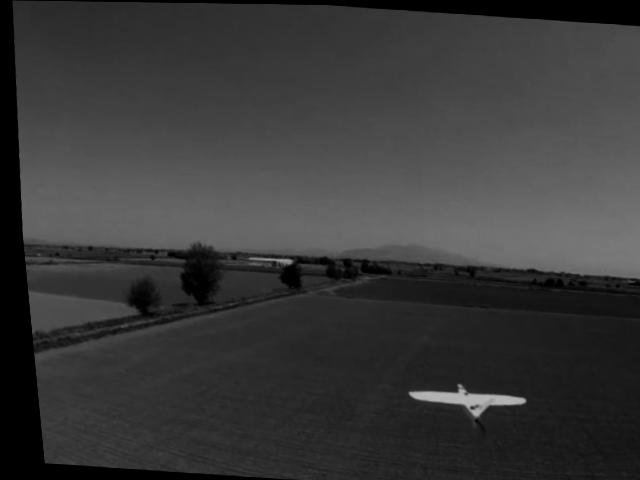hedef: (395, 376, 526, 441)
